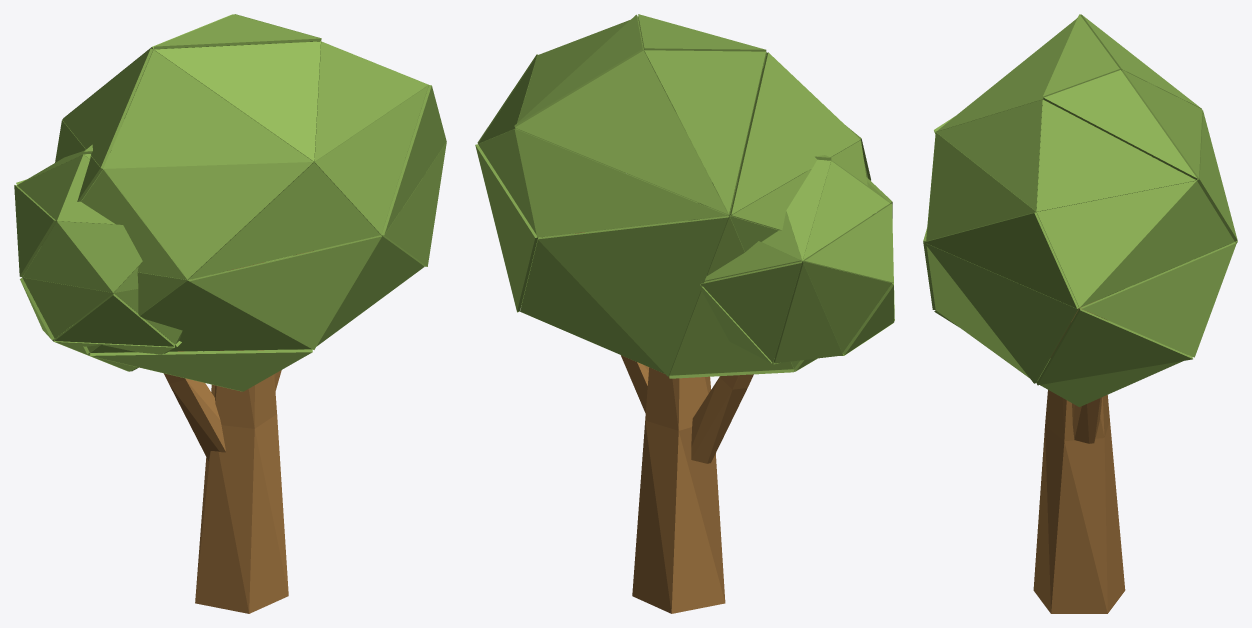
3 renders of one model, left to right at view 1: azimuth 30°, elevation 25°; view 2: azimuth 150°, elevation 25°; view 3: azimuth 270°, elevation 25°, orthographic. The views are drawn at different scales.
Parts seen in each view (by area): view 1: Tree_Broadleaf_A_Geometry; view 2: Tree_Broadleaf_A_Geometry; view 3: Tree_Broadleaf_A_Geometry.
Boxes of the visible parts, <box> form: Tree_Broadleaf_A_Geometry: <box>14,14,446,613</box>; Tree_Broadleaf_A_Geometry: <box>475,14,894,613</box>; Tree_Broadleaf_A_Geometry: <box>923,14,1237,613</box>.
Size of the model in its own units: 1.95 by 2.5 by 1.31.
